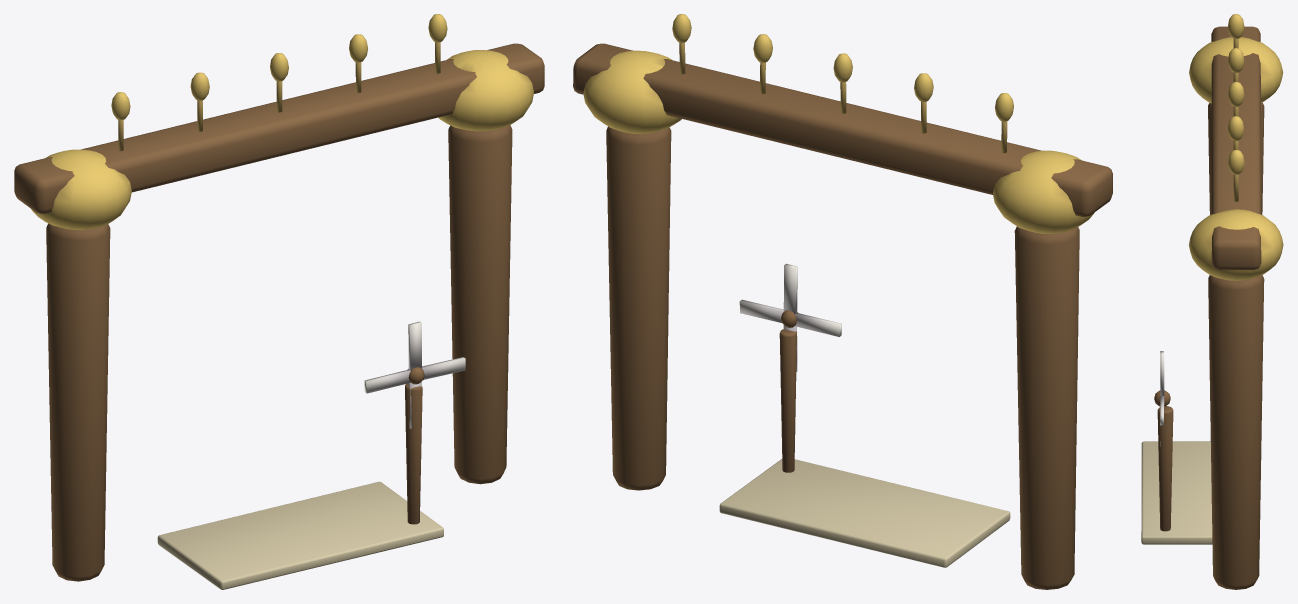
The picture shows the model from 3 angles, left to right: view 1: azimuth 30°, elevation 25°; view 2: azimuth 150°, elevation 25°; view 3: azimuth 270°, elevation 25°; orthographic projection. The views are drawn at different scales.
Visible parts, largest first — view 1: gate_a78270f9; view 2: gate_a78270f9; view 3: gate_a78270f9.
Boxes of the visible parts, <box> form: gate_a78270f9: <box>14,14,544,589</box>; gate_a78270f9: <box>573,14,1112,589</box>; gate_a78270f9: <box>1141,14,1283,589</box>.
Bounding box in the file's own units: 5.47 × 4.85 × 1.5.
